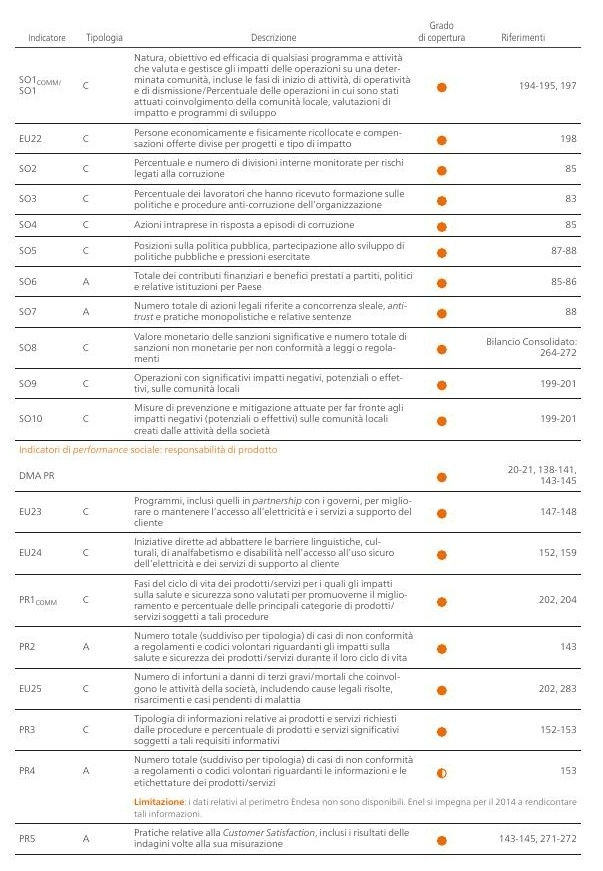table: (0, 0, 603, 871)
